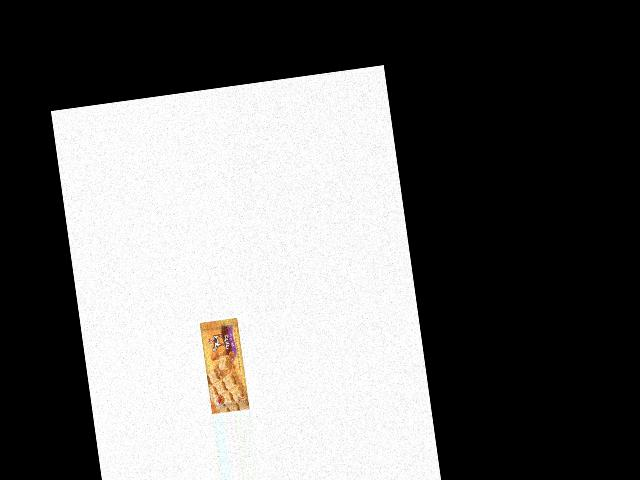chocolate: (199, 314, 252, 414)
